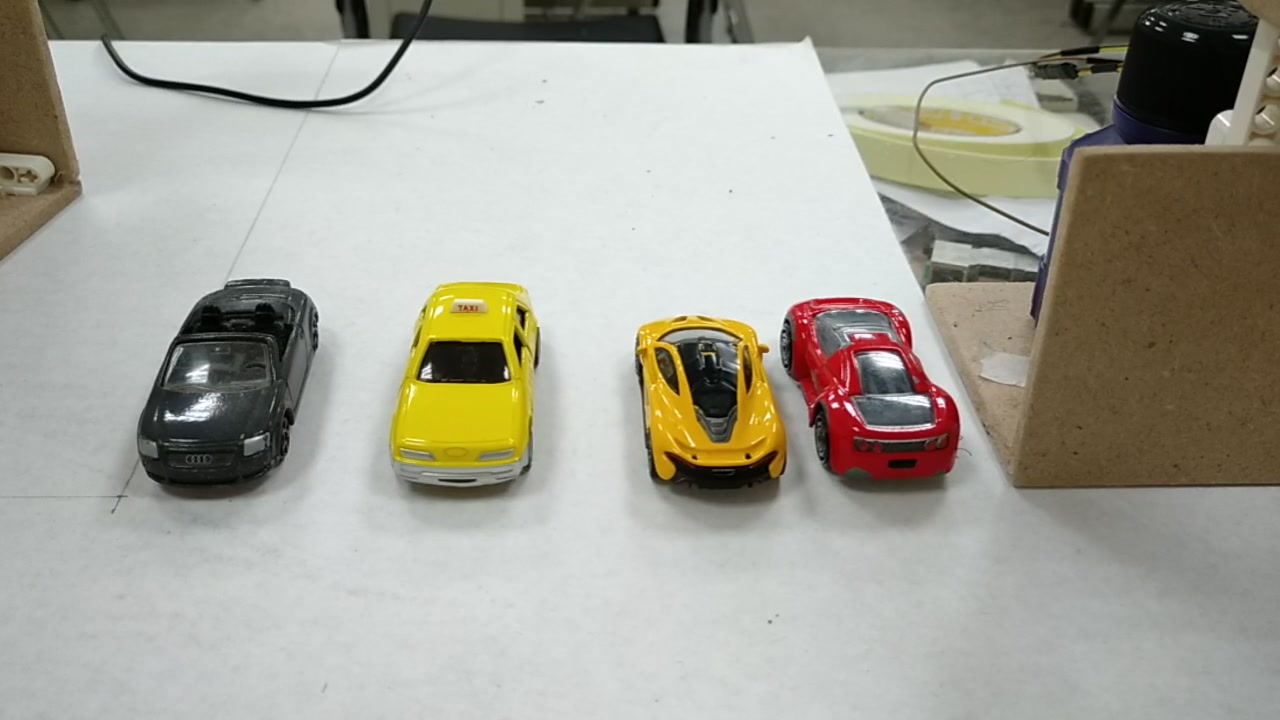car: (133, 276, 323, 484), (778, 299, 960, 485), (390, 288, 541, 491), (637, 322, 787, 489)
